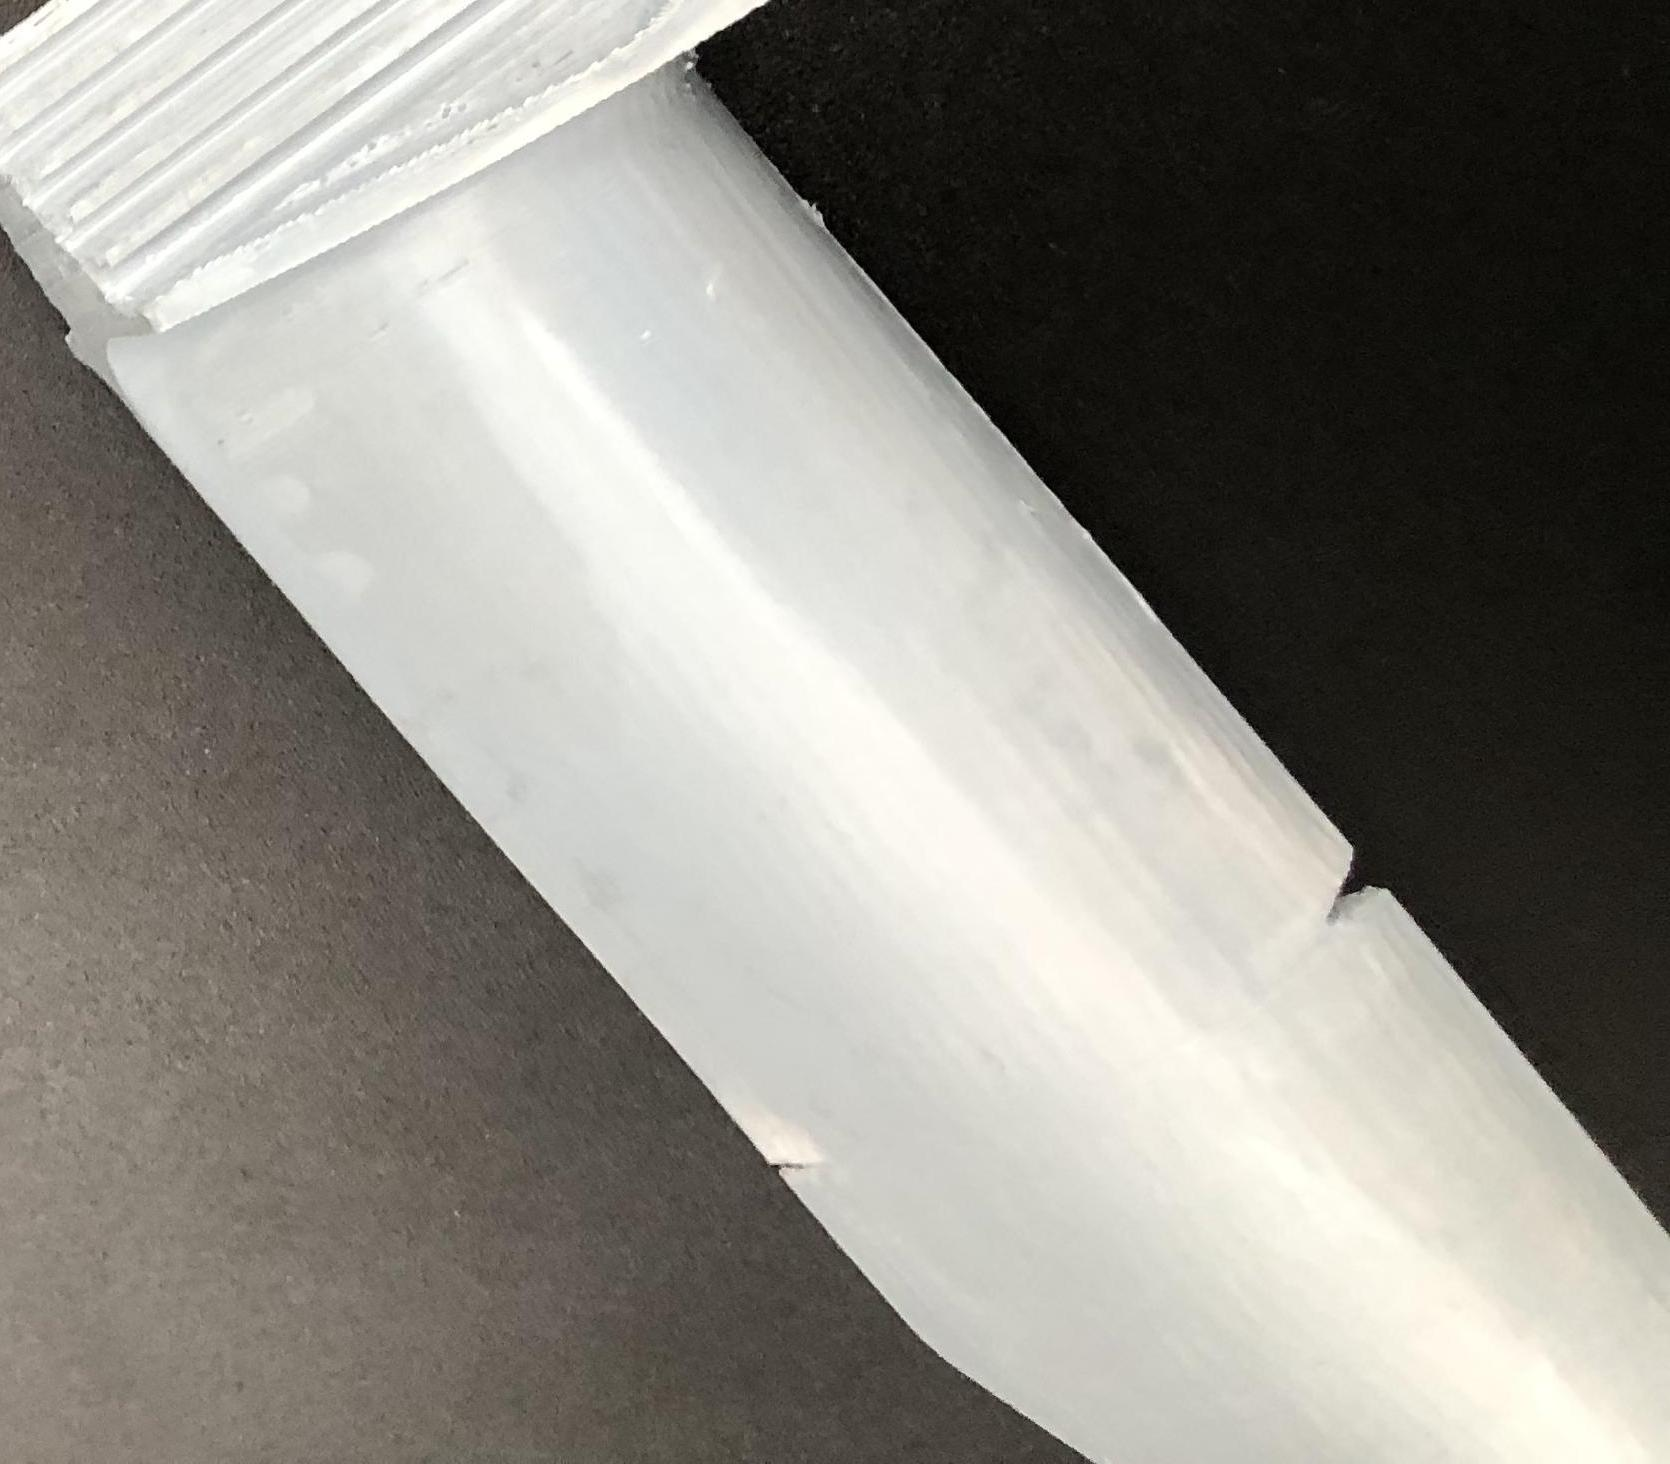groove: (1324, 849, 1396, 933), (764, 1150, 841, 1191)
